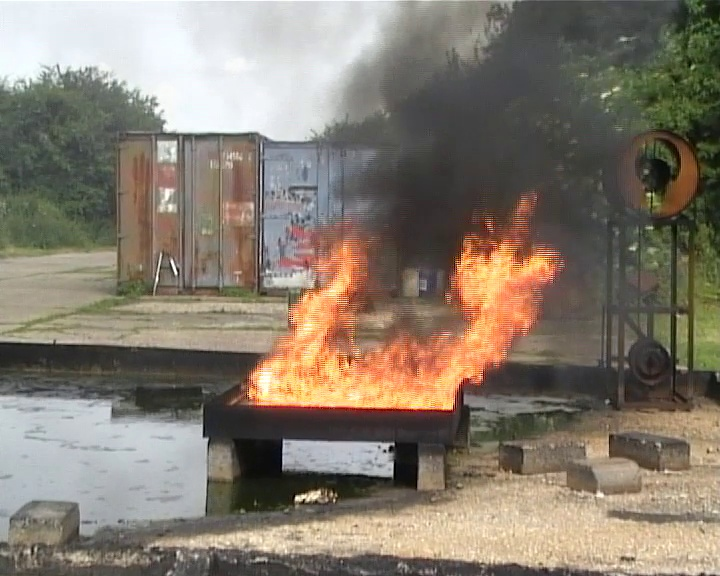fire: (250, 236, 554, 406)
